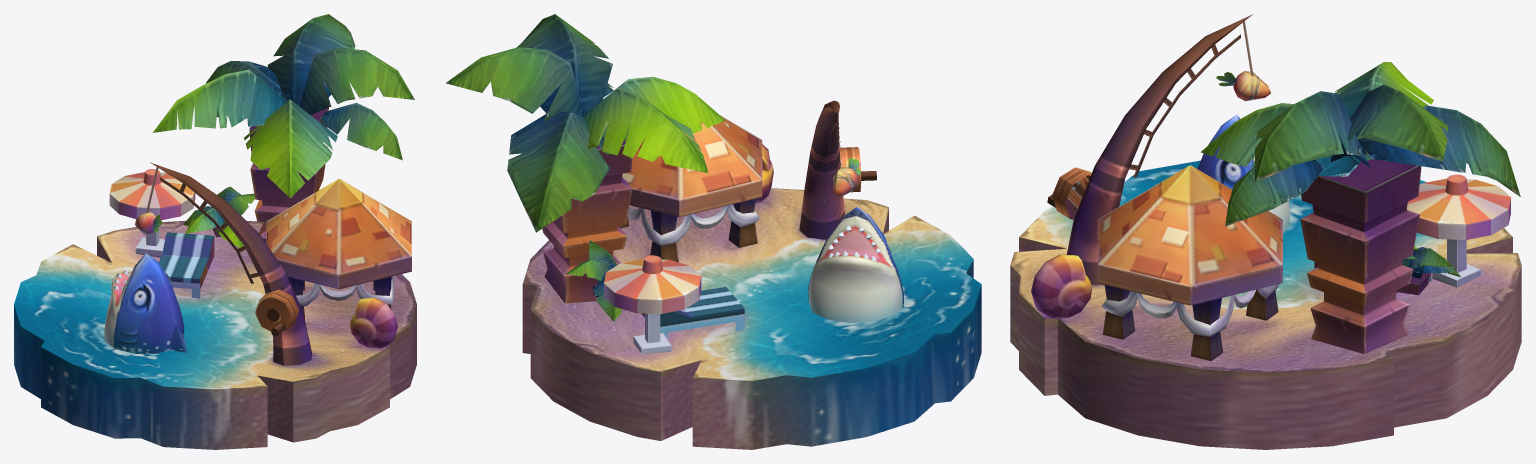
File: scenes_level_sea01.FBX
3 views of the same model, side by side, from view 1: azimuth 30°, elevation 25°; view 2: azimuth 150°, elevation 25°; view 3: azimuth 270°, elevation 25° (orthographic). The views are drawn at different scales.
Visible parts, largest first — view 1: scenes_level_sea01; view 2: scenes_level_sea01; view 3: scenes_level_sea01.
Boxes of the visible parts, box(x1,y1,x2,y2) form: scenes_level_sea01: box(14, 14, 416, 449); scenes_level_sea01: box(445, 14, 981, 449); scenes_level_sea01: box(1010, 14, 1521, 449).
Size of the model in its own units: 504 by 348 by 470.
